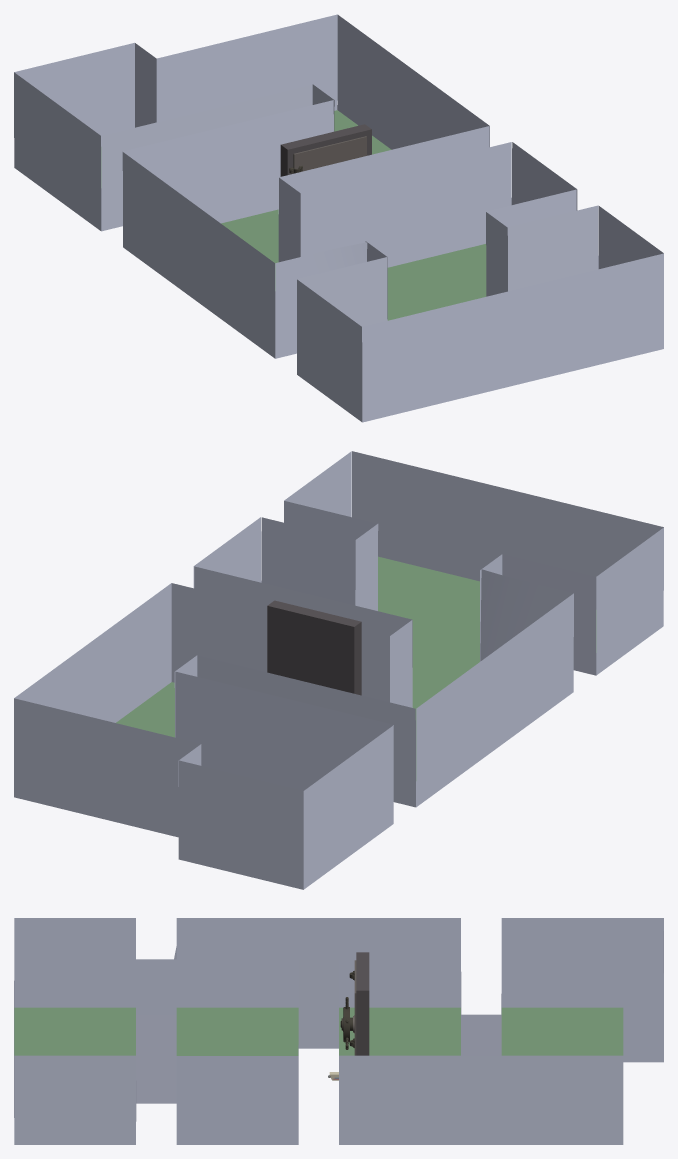
3 views of the same model, one above another, from view 1: azimuth 30°, elevation 25°; view 2: azimuth 150°, elevation 25°; view 3: azimuth 270°, elevation 25° (orthographic). The views are drawn at different scales.
Visible parts, largest first — view 1: Level, Door; view 2: Level, Door; view 3: Level, Door.
Part boxes in pixels (box(x1,y1,x2,y2)): Level: box(14, 14, 663, 422); Door: box(280, 124, 371, 176); Level: box(14, 451, 663, 889); Door: box(267, 600, 361, 695); Level: box(14, 918, 663, 1144); Door: box(340, 952, 369, 1055).
Size of the model in its own units: 2412 by 878 by 4812.
